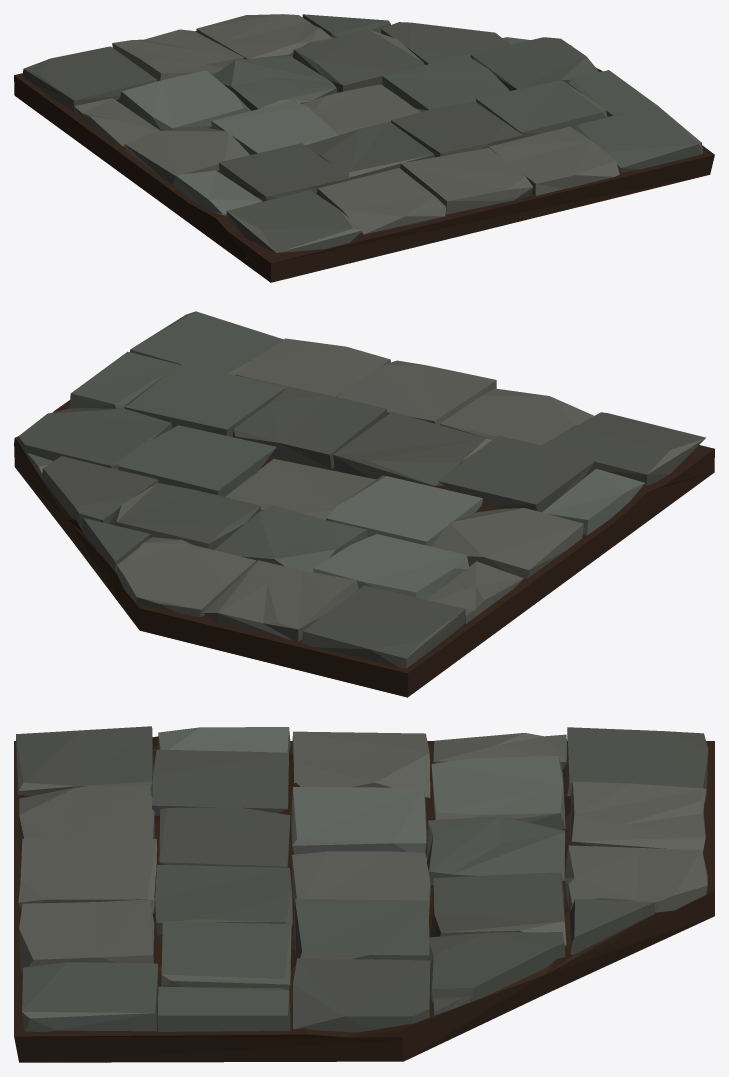
Rendered from MCastle_TileSlabs_02.FBX.
3 views of the same model, one above another, from view 1: azimuth 30°, elevation 25°; view 2: azimuth 150°, elevation 25°; view 3: azimuth 270°, elevation 25° (orthographic). The views are drawn at different scales.
Visible parts, largest first — view 1: MCastle_TileSlabs_02_LOD0; view 2: MCastle_TileSlabs_02_LOD0; view 3: MCastle_TileSlabs_02_LOD0.
Part boxes in pixels (x1,y1,x2,y2): MCastle_TileSlabs_02_LOD0: [14, 14, 714, 282]; MCastle_TileSlabs_02_LOD0: [14, 311, 714, 697]; MCastle_TileSlabs_02_LOD0: [14, 726, 714, 1062].
Size of what is drawn, in the model's own units: 4.42 by 0.3609 by 4.42.
